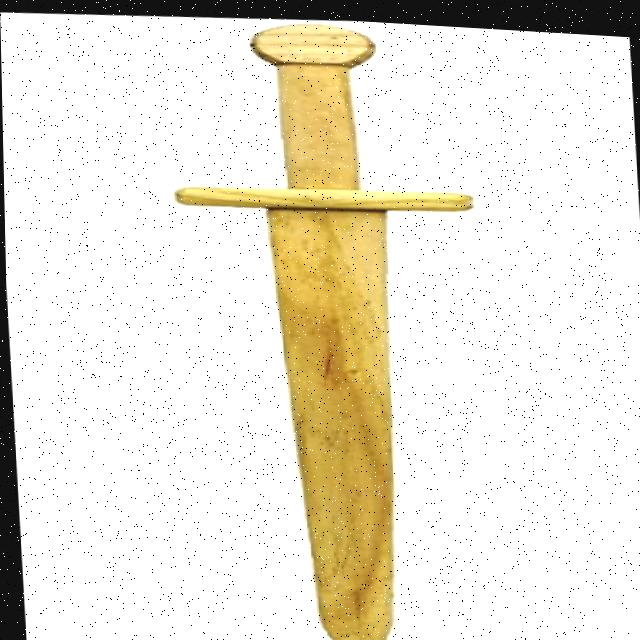knife: (138, 6, 521, 640)
